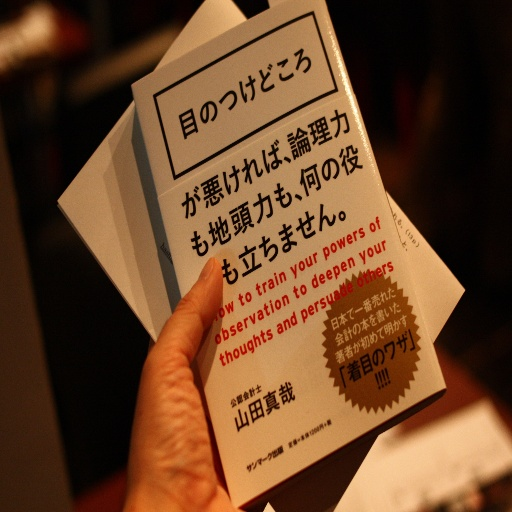hand: (118, 259, 240, 503)
